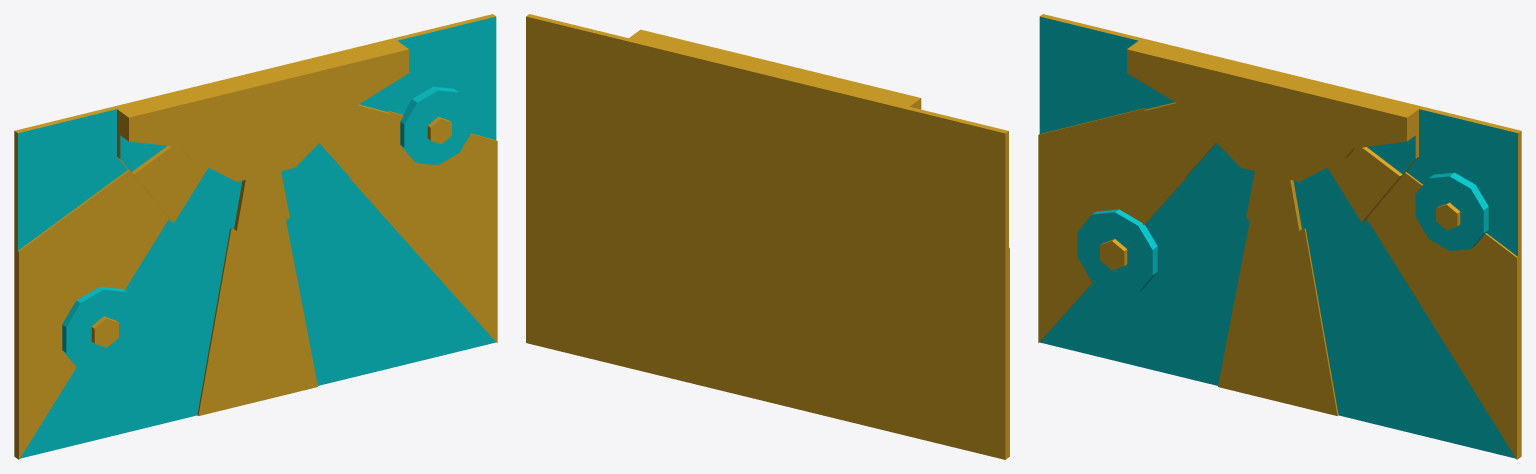
Rendered from Prop_Jungle_Temple_Ornament_Sun_Plaque_Gold_Gem_01.FBX.
3 renders of one model, left to right at view 1: azimuth 30°, elevation 25°; view 2: azimuth 150°, elevation 25°; view 3: azimuth 330°, elevation 25°, orthographic.
Parts seen in each view (by area): view 1: Prop_Jungle_Temple_Ornament_Sun_Plaque_Gold_Gem_01; view 2: Prop_Jungle_Temple_Ornament_Sun_Plaque_Gold_Gem_01; view 3: Prop_Jungle_Temple_Ornament_Sun_Plaque_Gold_Gem_01.
Boxes of the visible parts, x1,y1,x2,y2 form: Prop_Jungle_Temple_Ornament_Sun_Plaque_Gold_Gem_01: (14,14,497,459); Prop_Jungle_Temple_Ornament_Sun_Plaque_Gold_Gem_01: (526,14,1009,459); Prop_Jungle_Temple_Ornament_Sun_Plaque_Gold_Gem_01: (1038,14,1521,459).
Size of the model in its own units: 1415 by 921 by 78.1.
